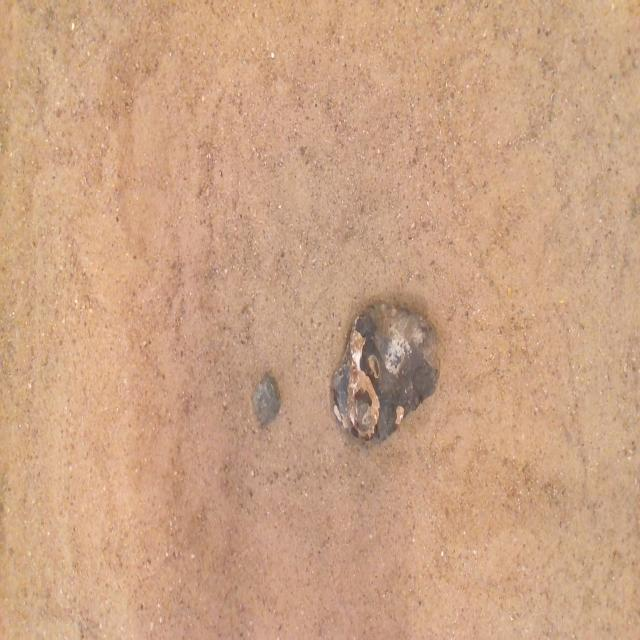rock: (333, 303, 439, 440), (252, 375, 280, 425)
